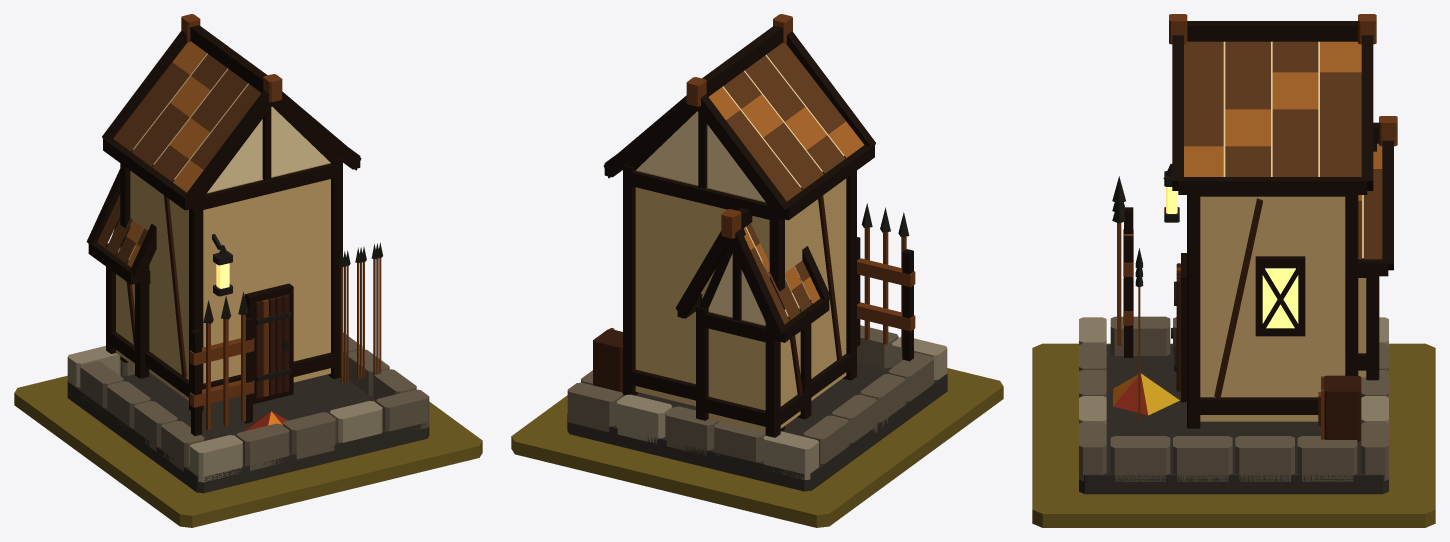
File: fletcher_t5.glb
The picture shows the model from 3 angles, left to right: view 1: azimuth 30°, elevation 25°; view 2: azimuth 150°, elevation 25°; view 3: azimuth 270°, elevation 25°; orthographic projection. The views are drawn at different scales.
Visible parts, largest first — view 1: MMR | fletcher | T05 Architecture.001, MMR | fletcher | Tier 05 Ground.001; view 2: MMR | fletcher | T05 Architecture.001, MMR | fletcher | Tier 05 Ground.001; view 3: MMR | fletcher | T05 Architecture.001, MMR | fletcher | Tier 05 Ground.001, MMR | fletcher | T05 Autumn Dressing.001.
Part boxes in pixels (x1,y1,x2,y2): MMR | fletcher | T05 Architecture.001: [67, 14, 429, 493]; MMR | fletcher | Tier 05 Ground.001: [14, 375, 482, 527]; MMR | fletcher | T05 Architecture.001: [567, 14, 947, 491]; MMR | fletcher | Tier 05 Ground.001: [511, 368, 1003, 527]; MMR | fletcher | T05 Architecture.001: [1079, 14, 1397, 494]; MMR | fletcher | Tier 05 Ground.001: [1032, 343, 1435, 527]; MMR | fletcher | T05 Autumn Dressing.001: [1113, 373, 1179, 415].
Size of the model in its own units: 1.3 by 1.51 by 1.3.
2 materials, 1 textured.
